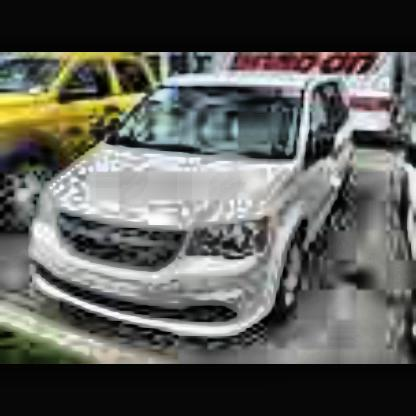Ram C-V Cargo Van Minivan 2012: (34, 79, 364, 353)
